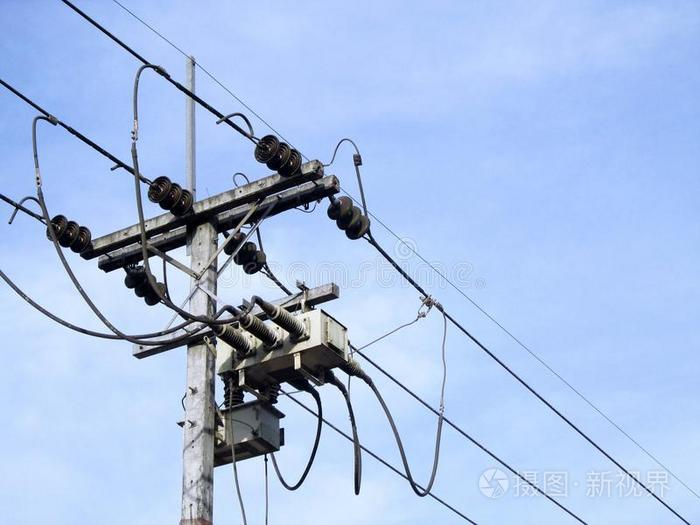insulator: (146, 174, 197, 218), (253, 134, 300, 178), (326, 194, 370, 241), (224, 232, 269, 275), (46, 215, 89, 256), (124, 266, 164, 307)
